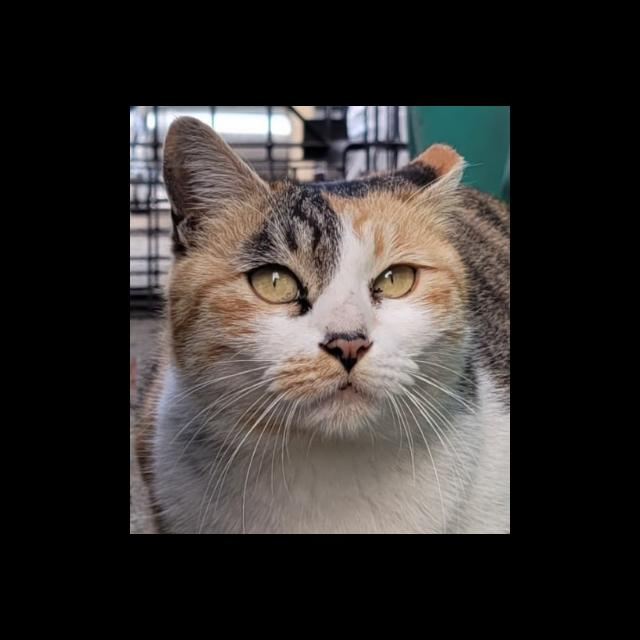animals: (160, 112, 480, 443)
